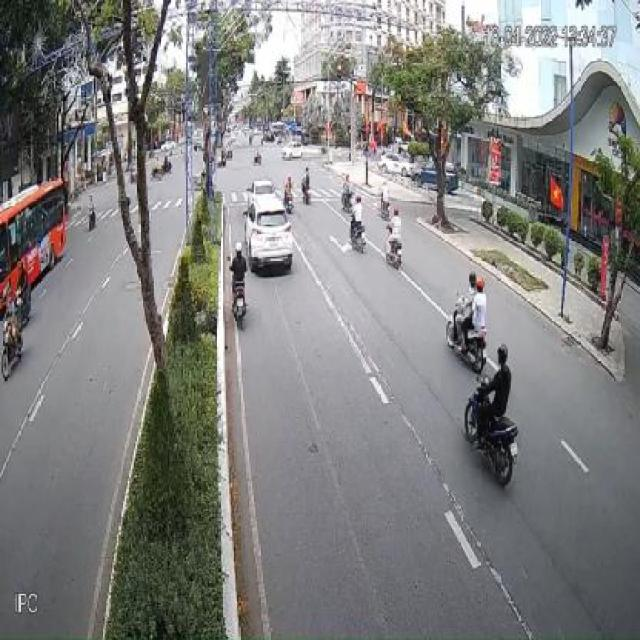bus: (2, 174, 70, 314)
car: (242, 198, 297, 274), (243, 177, 277, 201)
motorbike: (467, 342, 521, 489), (450, 274, 493, 376), (226, 244, 254, 322), (347, 194, 366, 256), (382, 226, 402, 272), (377, 183, 391, 219), (302, 169, 314, 204), (283, 176, 294, 212), (89, 196, 99, 232)
